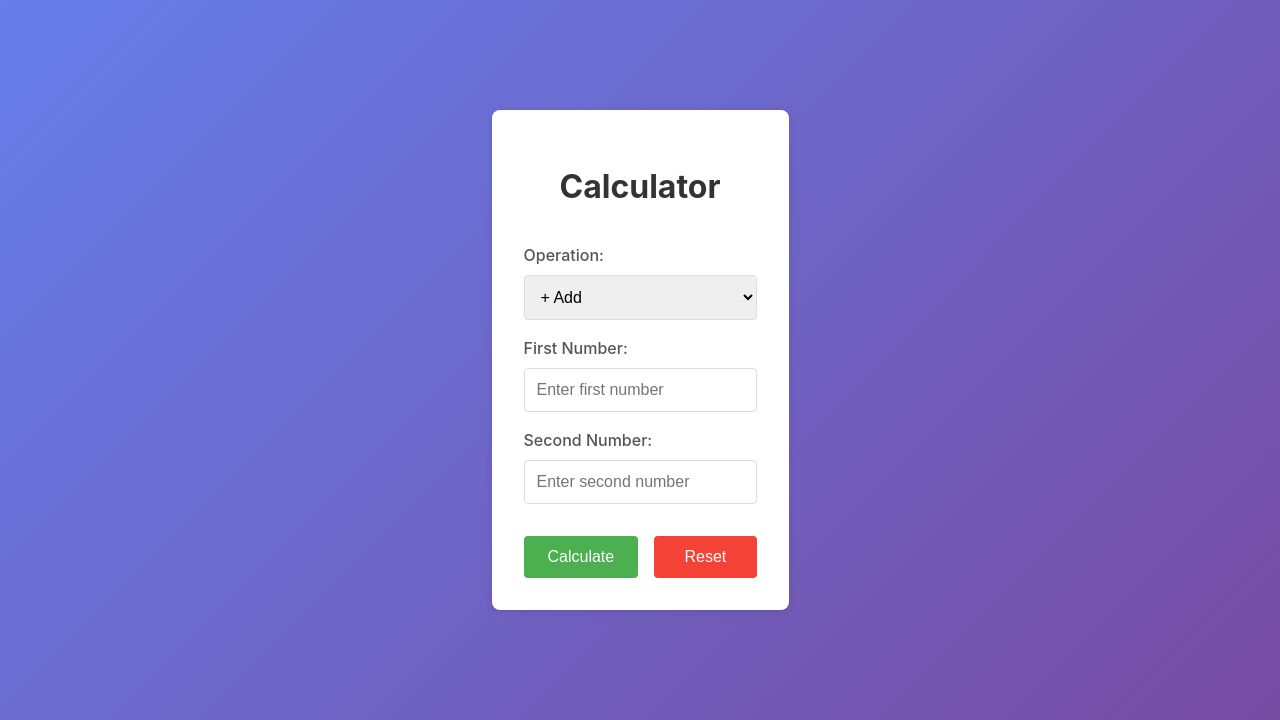
Test: Calculator Component › performs successful division
This screenshot has width=1280, height=720.
Select "÷ Divide" in the dropdown labelled "Operation:". click: (640, 298)
box: [524, 275, 756, 320]
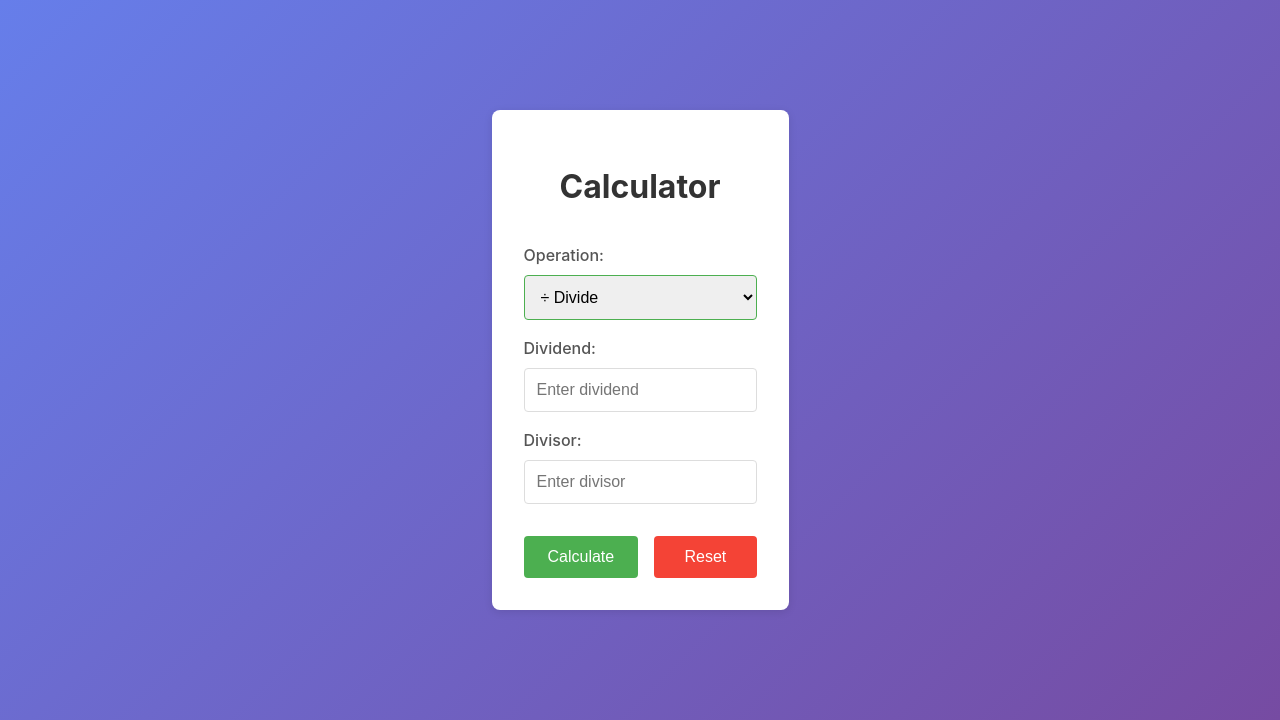
Type "10" into the field labelled "Dividend:". click: (640, 390)
box: [524, 368, 756, 412]
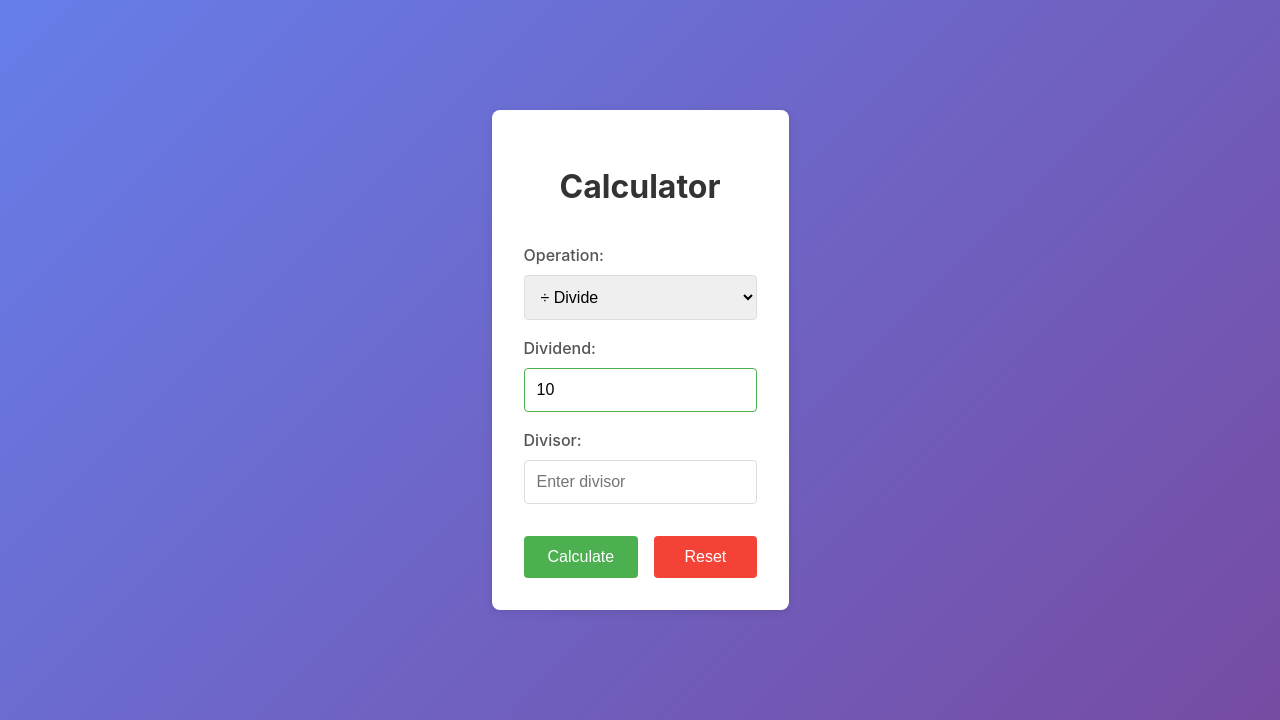
Type "2" into the field labelled "Divisor:". click: (640, 482)
box: [524, 460, 756, 504]
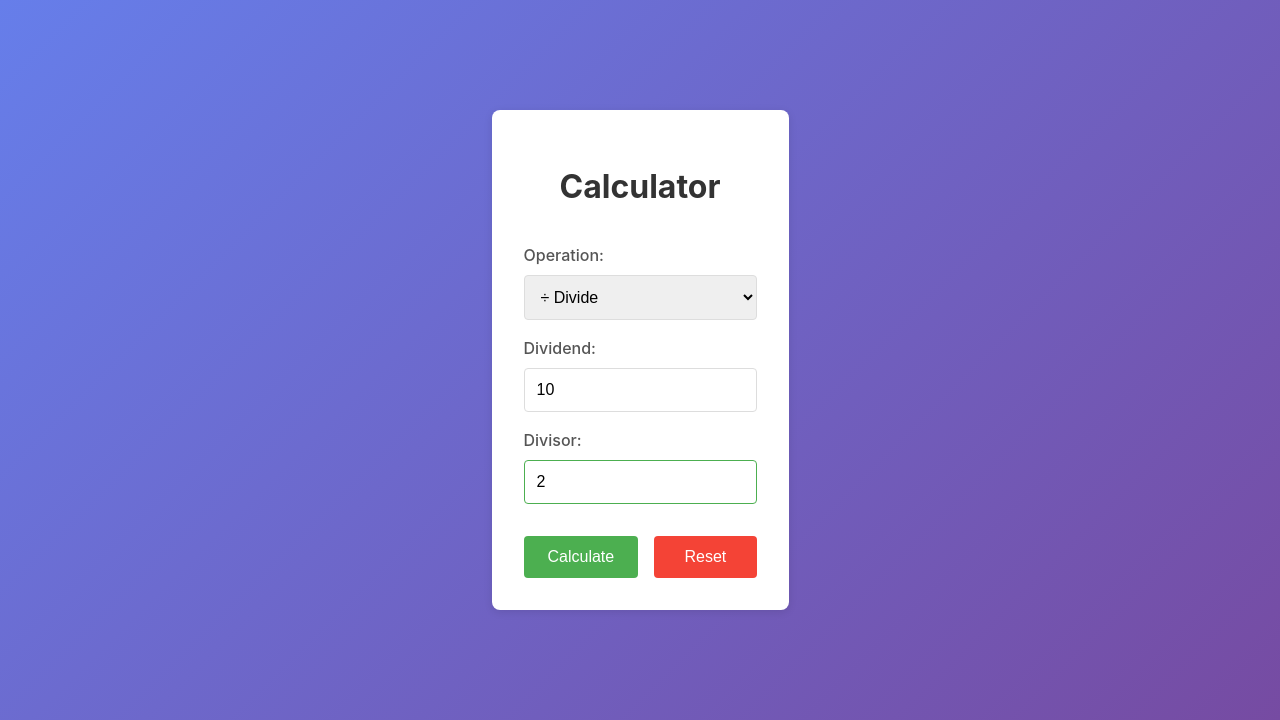
Click the button "Calculate". click: (581, 557)
box: [524, 536, 638, 578]
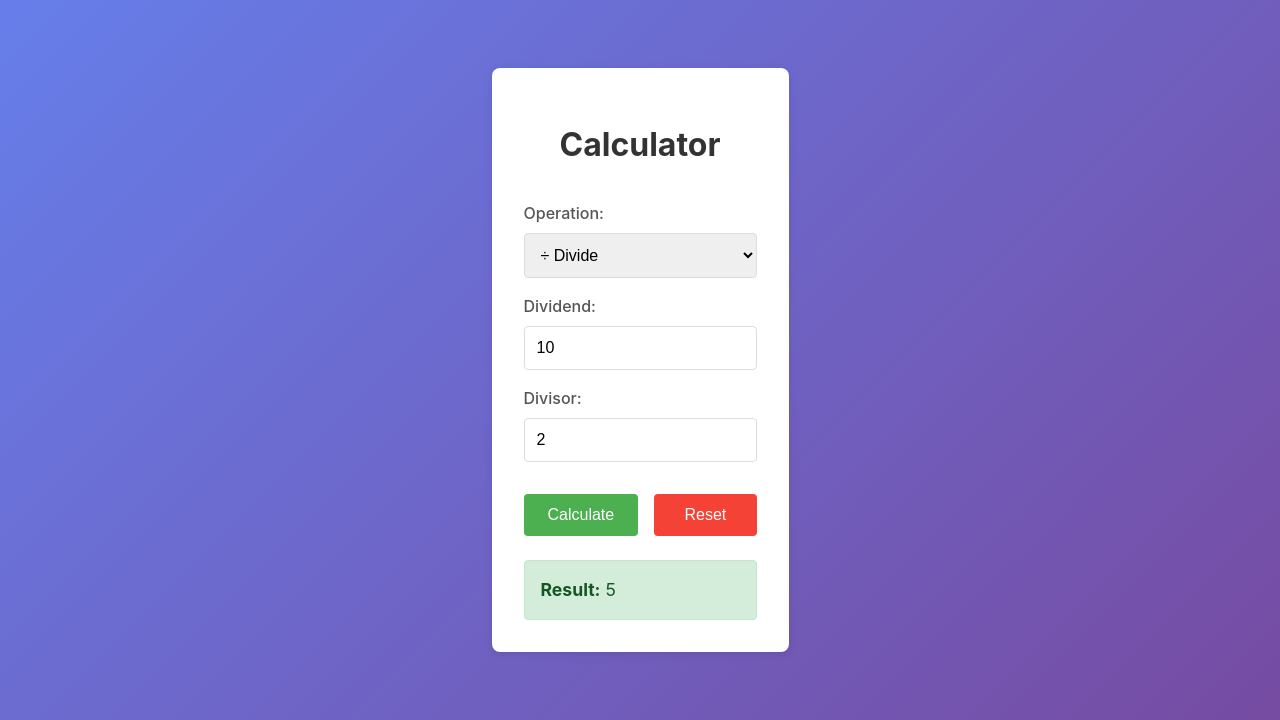
Check: the element with test id "result" reads "Result: 5", box [524, 560, 756, 620]
